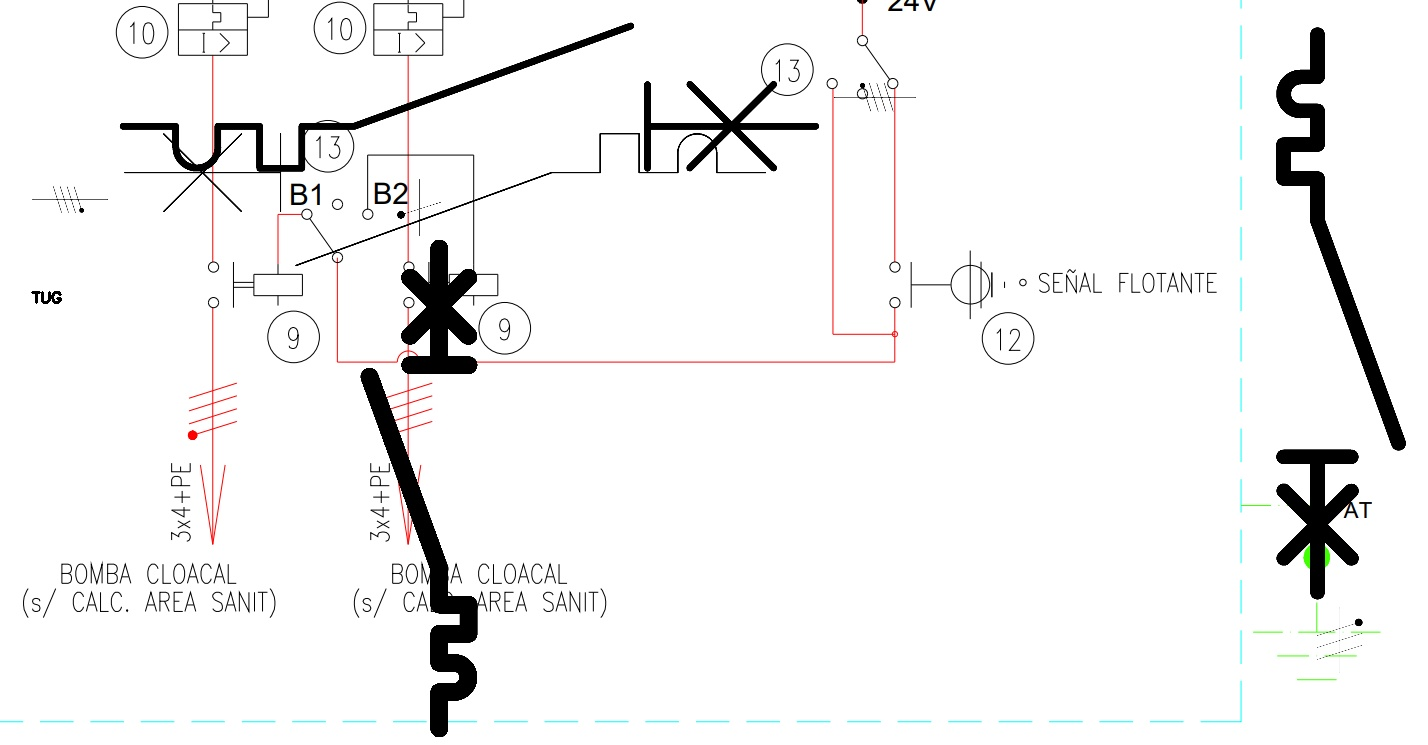interruptor_termomagnetico: (105, 8, 833, 186), (108, 117, 782, 282), (1269, 20, 1412, 607), (357, 236, 481, 741)
